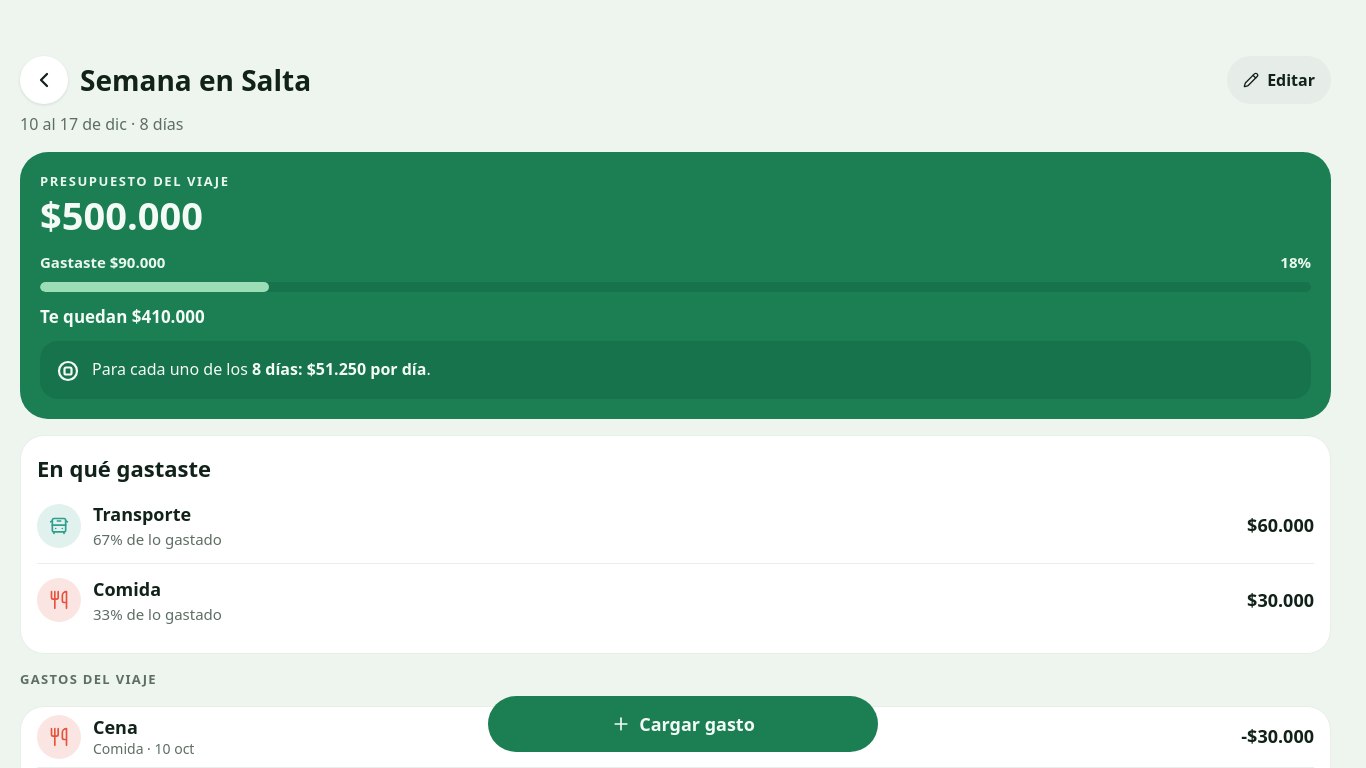
Test: PersonalTripPage › Editar opens the trip with its destination, dates and budget, and saves the changes
Click the button "Editar".
click(1279, 80)  # box [1227,56,1331,104]
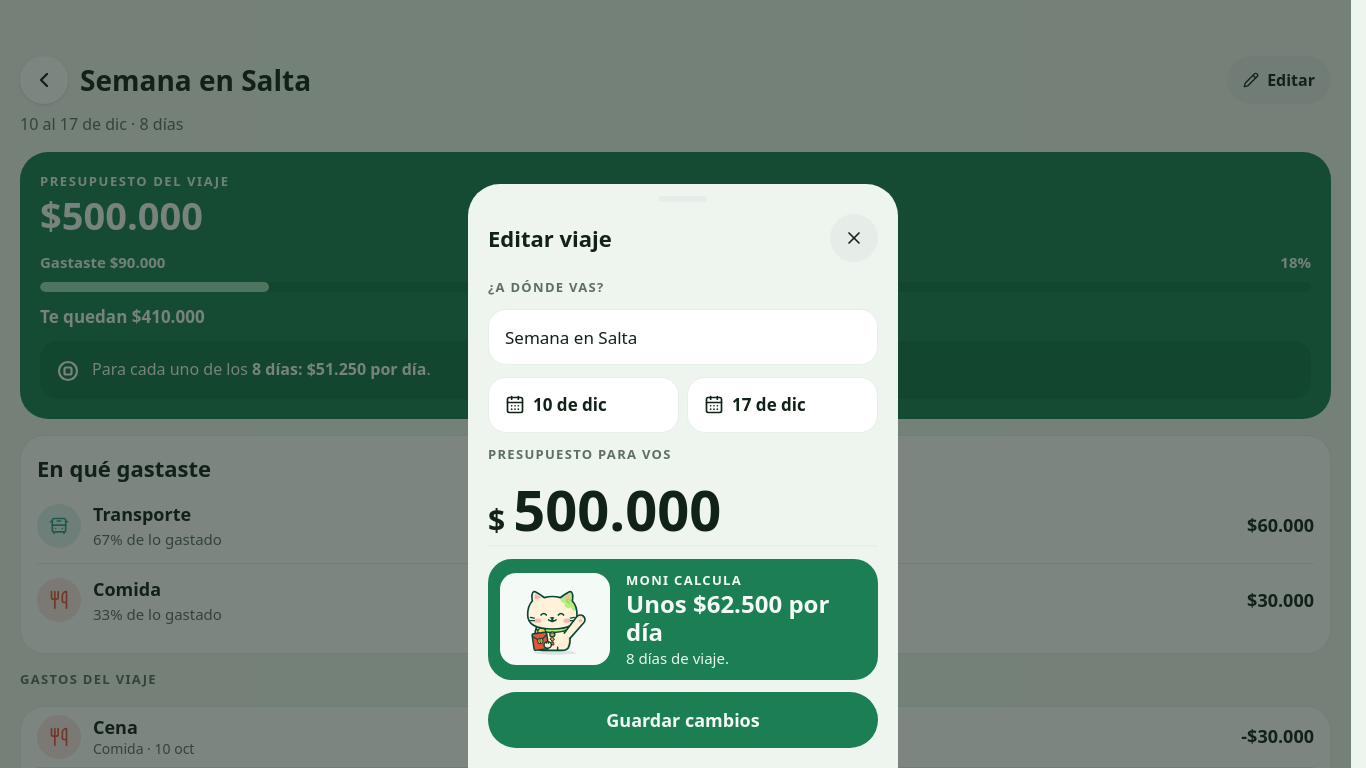
Expected: the field named "Destino" holds "Semana en Salta"
Expected: the field named "Presupuesto" holds "500.000", [513,476,878,540]
Expected: the button with aria-label "Fecha de ida" reads "10 de dic", [488,377,679,433]
Replace the text in the field named "Destino" with "Salta y Jujuy" at (683, 337), box [488,309,878,365]
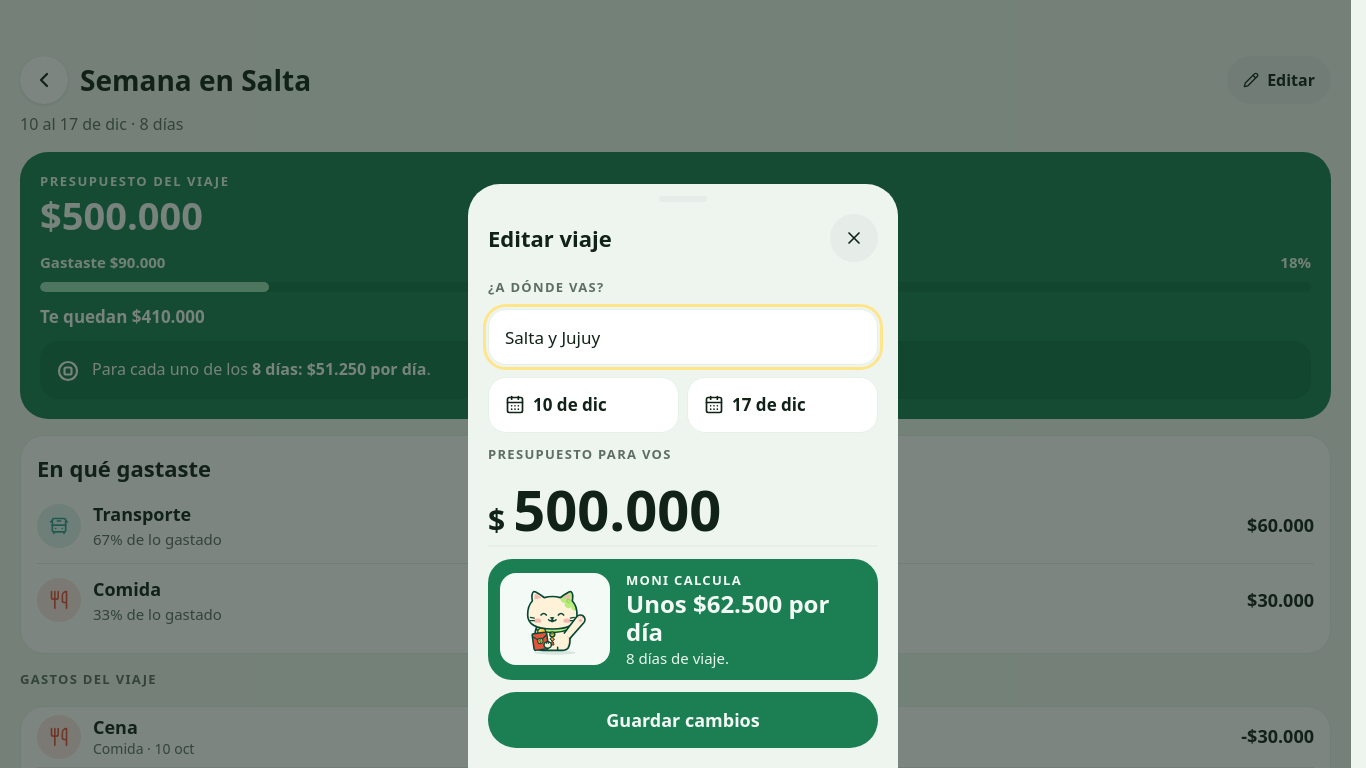
Clear the field named "Presupuesto" at (696, 508), box [513,476,878,540]
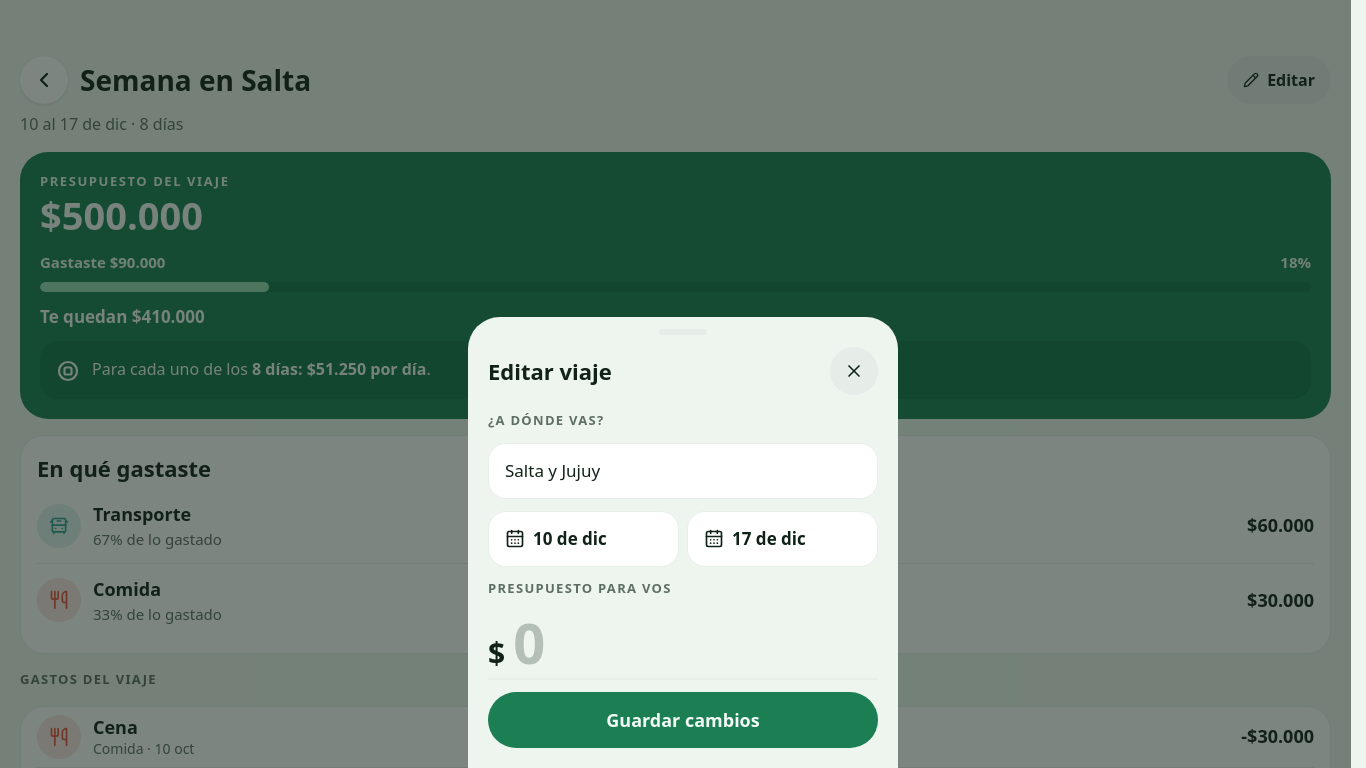
Type "700000" into the field named "Presupuesto".
click(696, 642); type("700000")  # box [513,610,878,674]
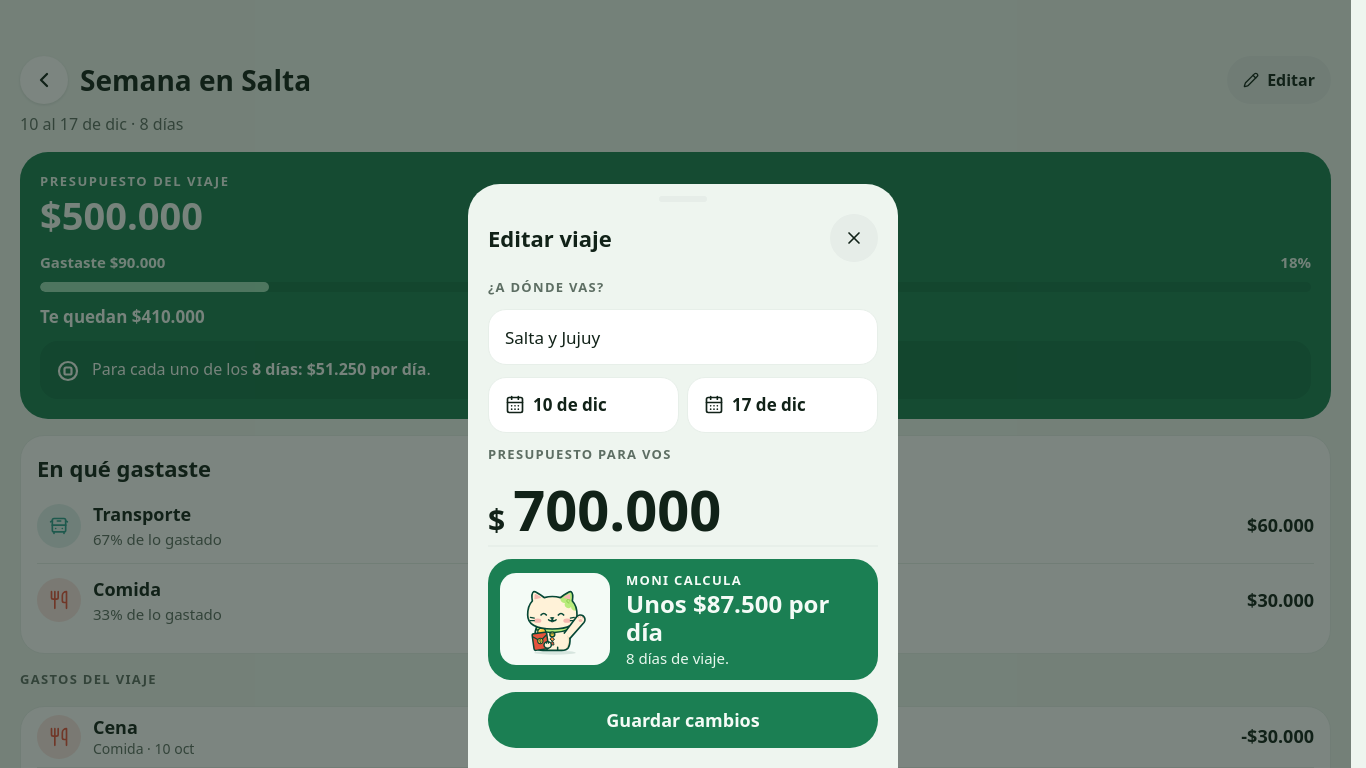
Click the button "Guardar cambios".
click(683, 720)  # box [488,692,878,748]
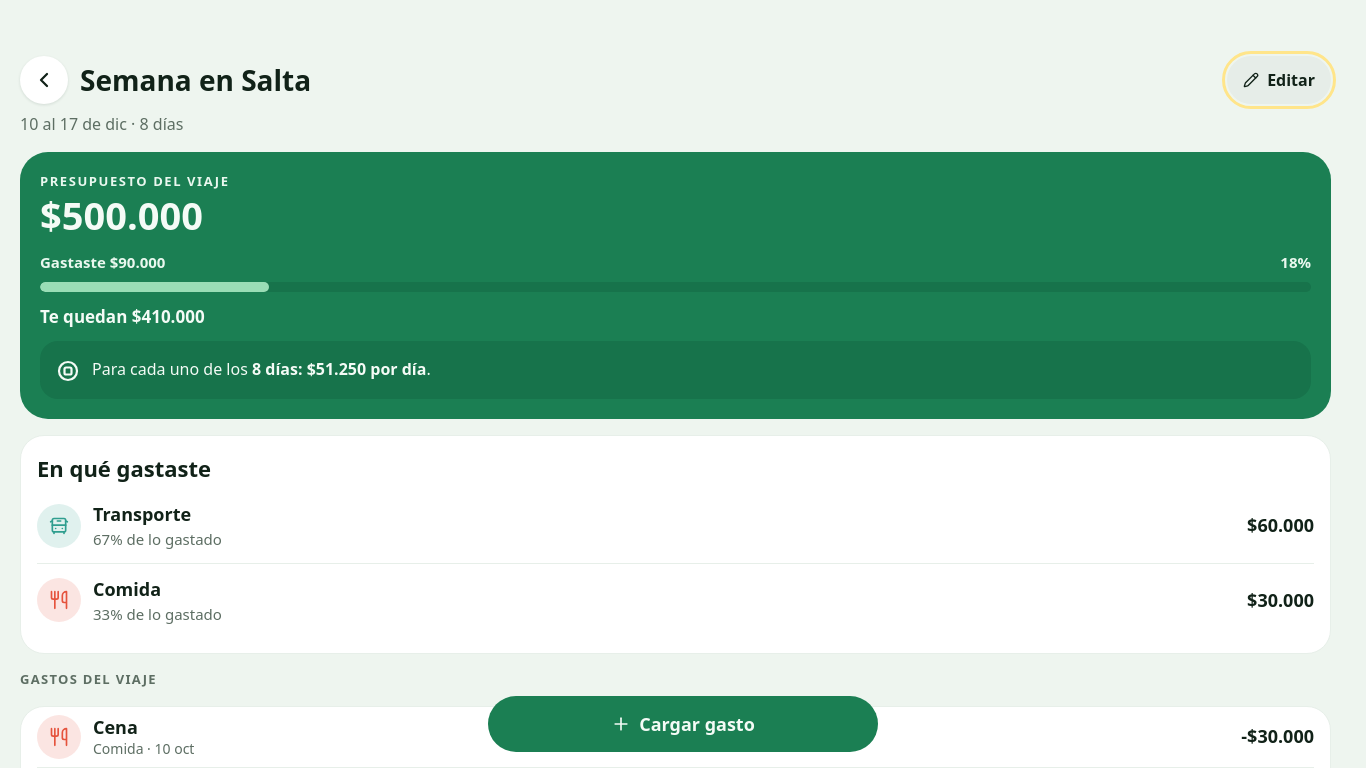
Expected: the heading "Editar viaje" is gone
